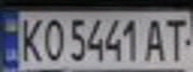1: (121, 16, 142, 62)
4: (84, 15, 106, 63), (103, 15, 124, 62)
5: (66, 15, 87, 62)
A: (142, 15, 169, 63)
K: (15, 15, 45, 63)
O: (39, 15, 66, 63)
T: (160, 15, 190, 63)
